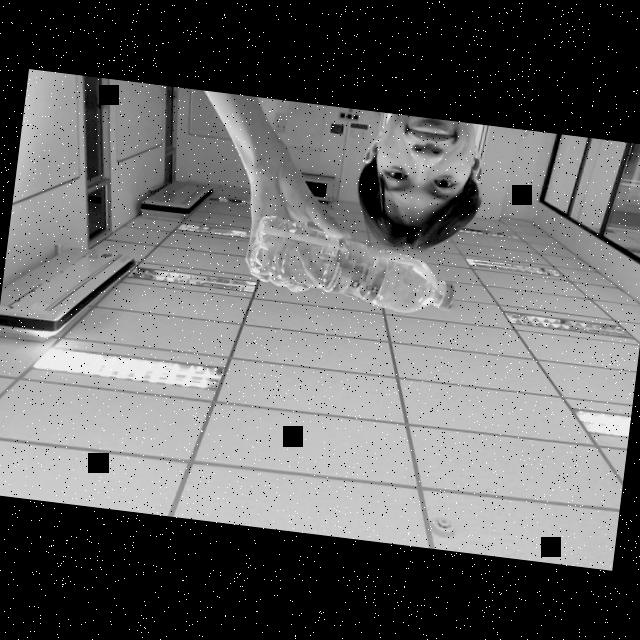plastic_bottle: (238, 209, 467, 328)
